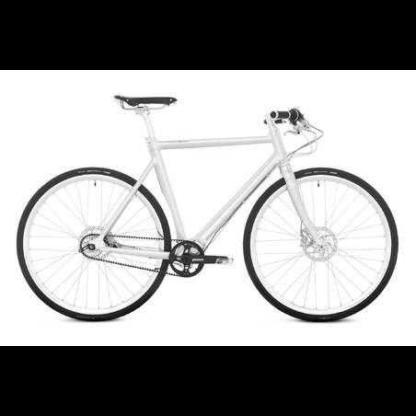Bicycle: (10, 79, 412, 340)
